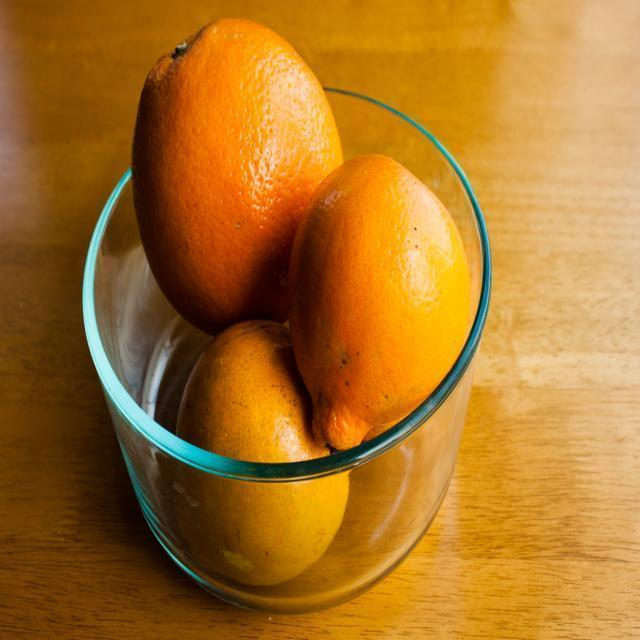Orange: (130, 16, 344, 334), (287, 152, 470, 451), (174, 318, 350, 586)
